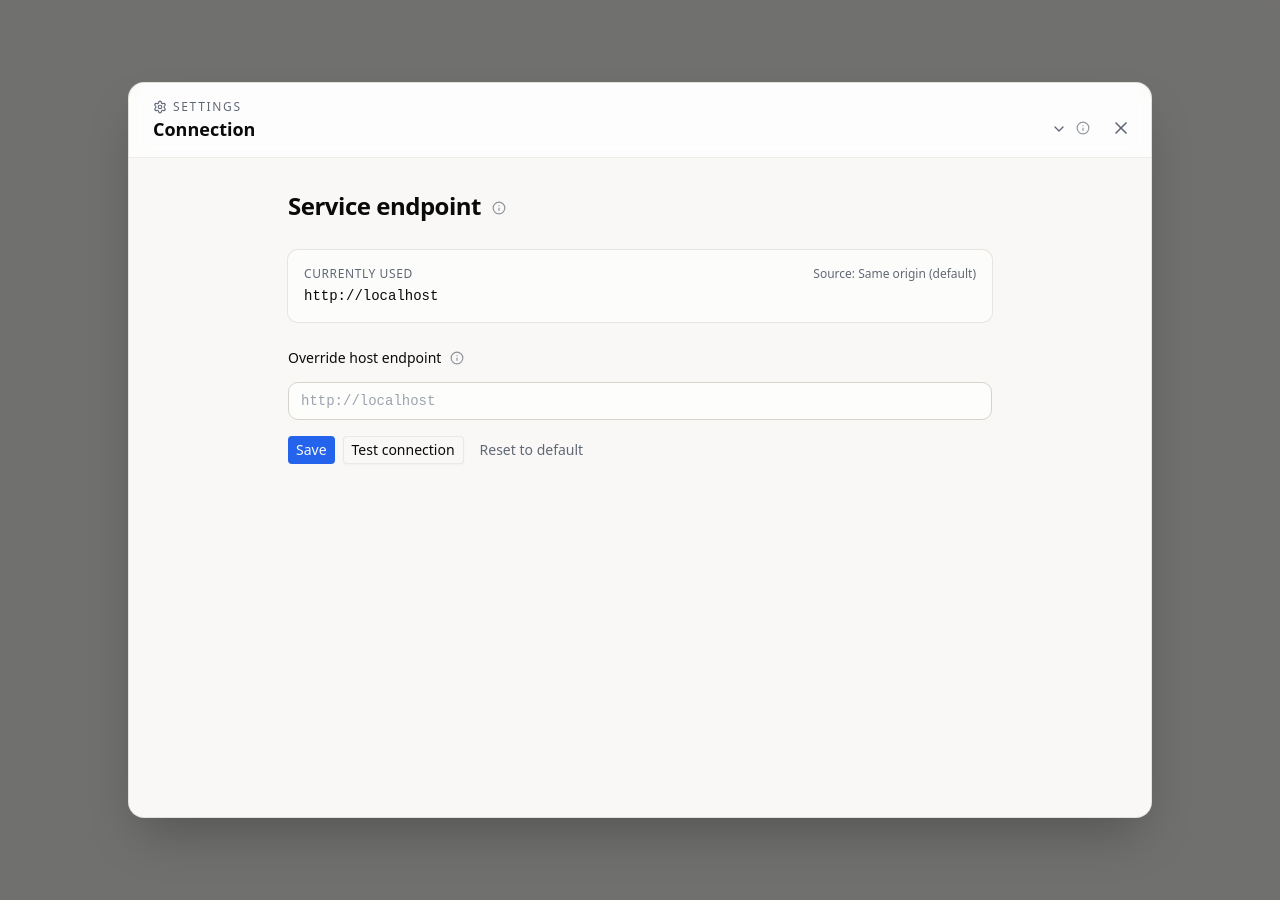
Scenario: SettingsDialog › keeps connection help hidden but cross-origin requirements and failures visible
Expected: the heading "Service endpoint" is shown, [288,189,511,222]
Expected: the text "KALA_PUBLIC_URLS" is not shown
Step 1. Click the button named "About Override host endpoint" → (457, 358), box [445,346,469,370]
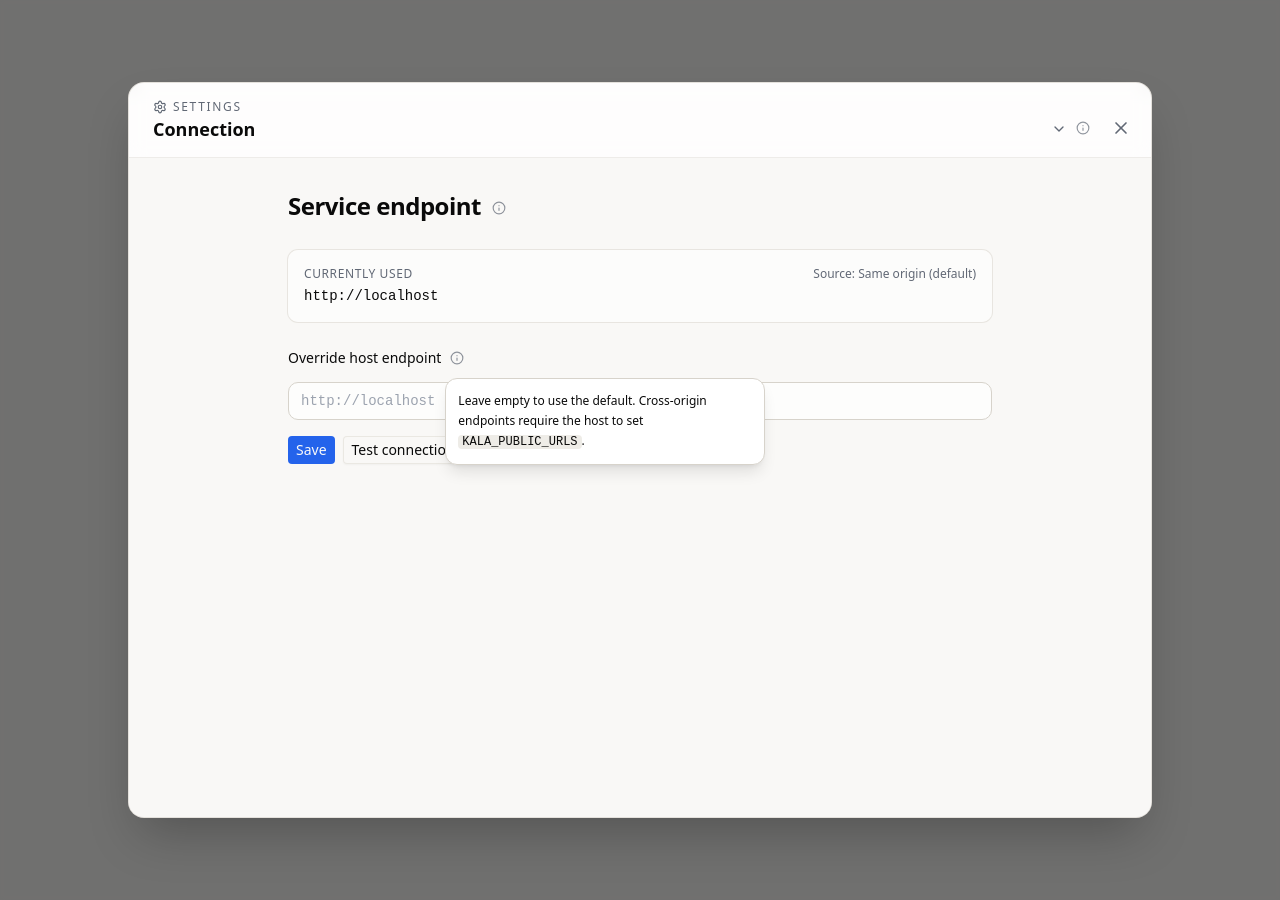
Expected: the tooltip shows "KALA_PUBLIC_URLS", [462,435,578,449]
Step 2. Press Escape
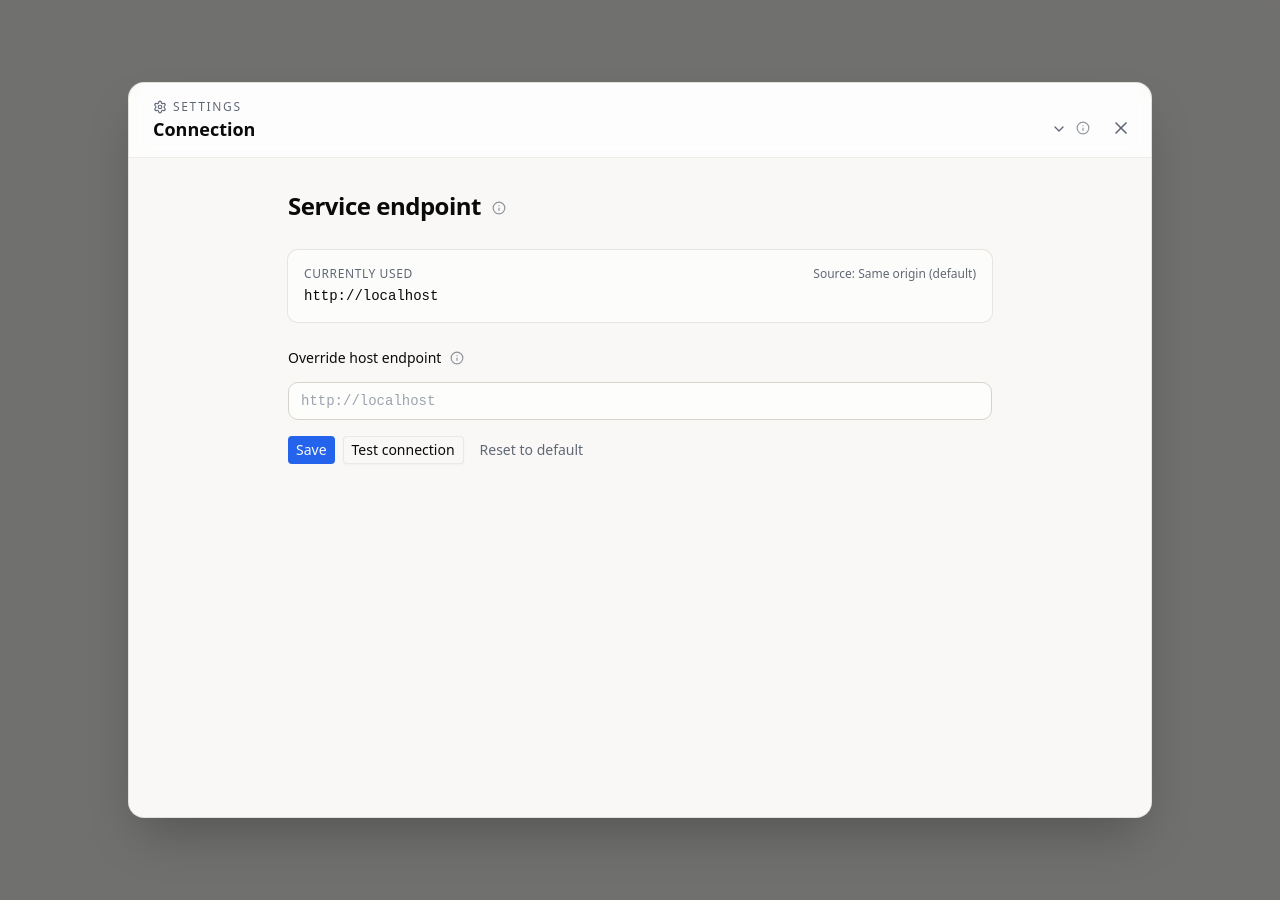
Step 3. Type "https://other.example" into the field with test id "settings-connection-endpoint" → (640, 401), box [288,382,992,420]
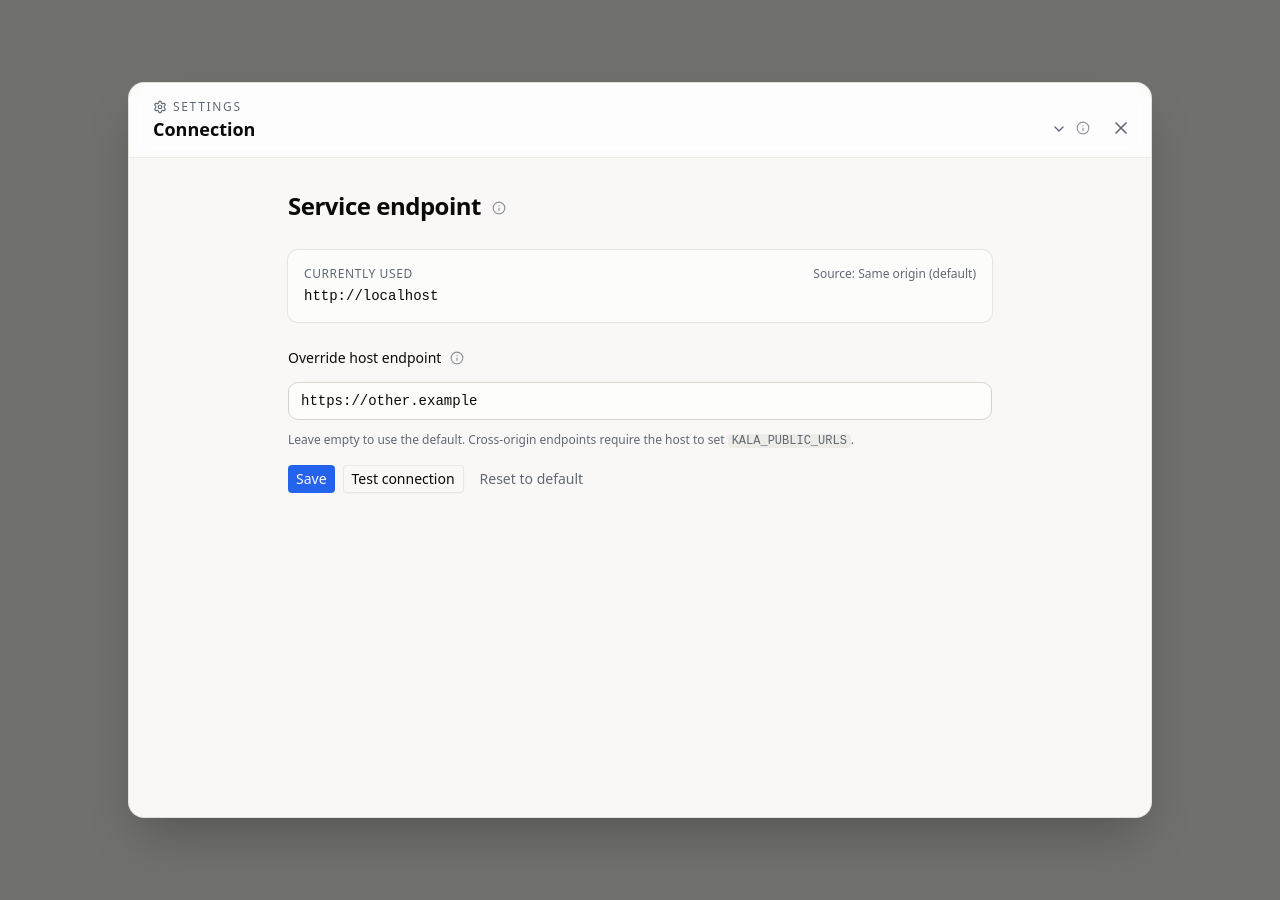
Expected: the text "KALA_PUBLIC_URLS" is shown, [732,434,847,448]
Step 4. Click the button with test id "settings-connection-test" → (403, 479), box [343,465,464,493]
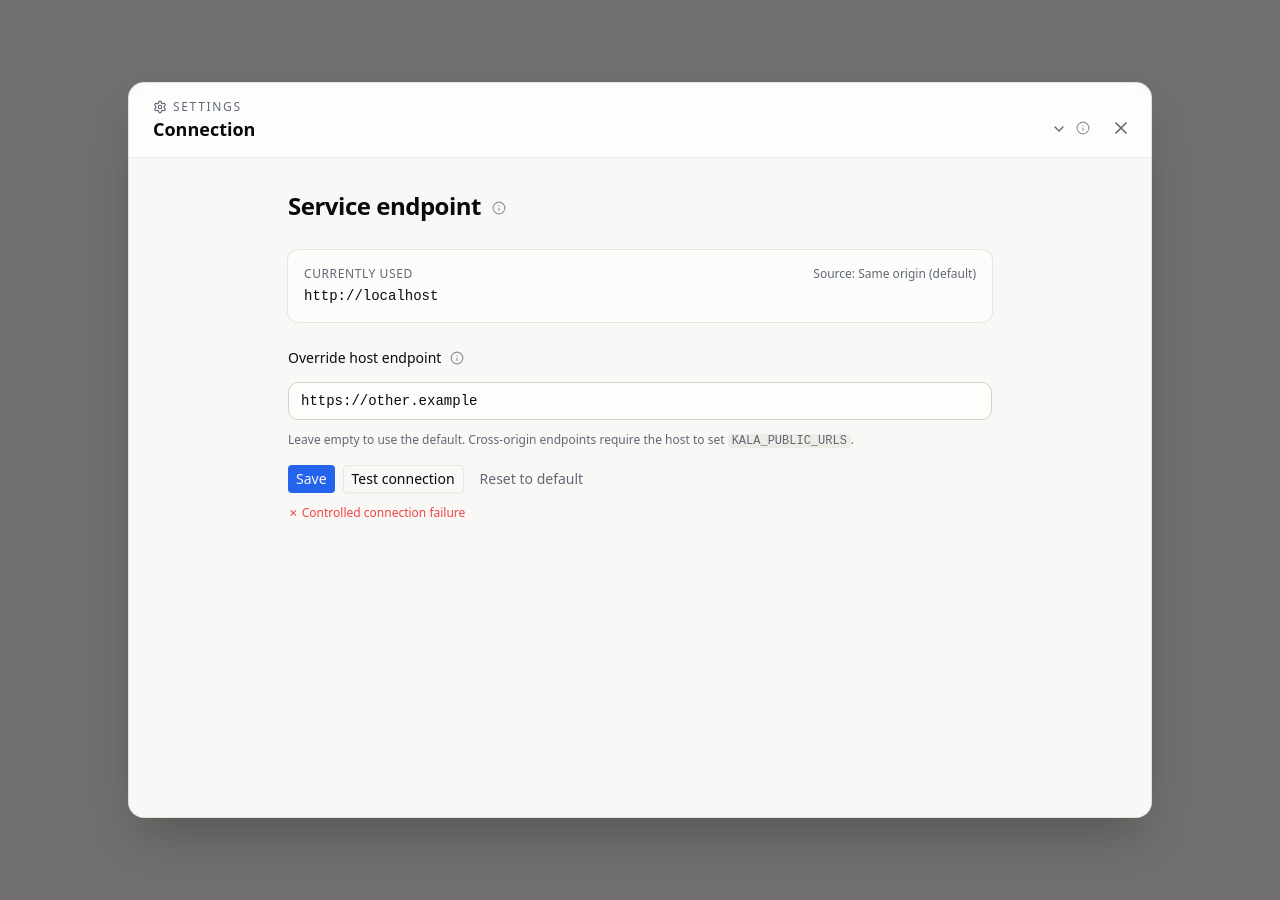
Expected: the message shows "Controlled connection failure", [302,504,465,521]
Step 5. Replace the text in the field with test id "settings-connection-endpoint" with "invalid" → (640, 401), box [288,382,992,420]
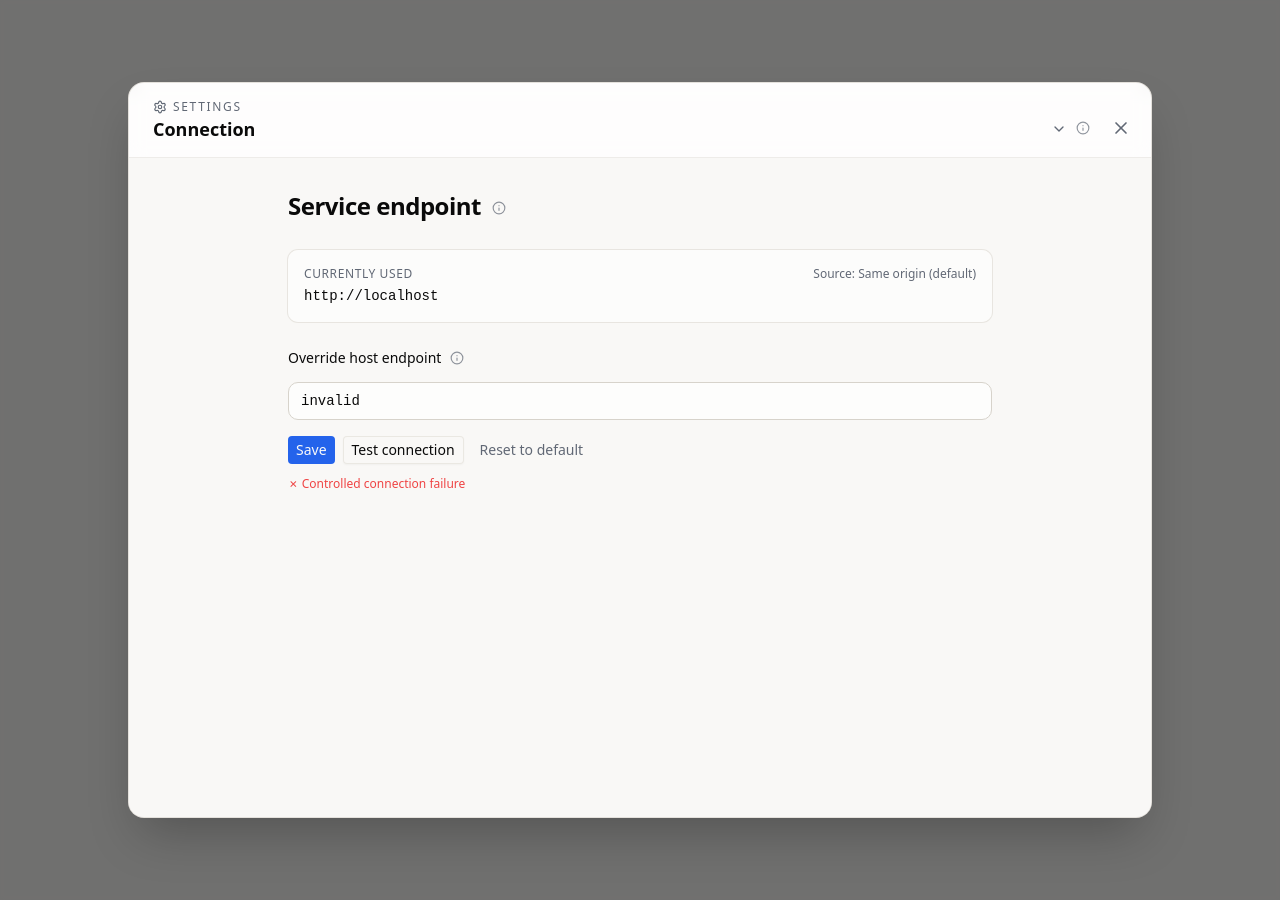
Expected: the text "KALA_PUBLIC_URLS" is gone
